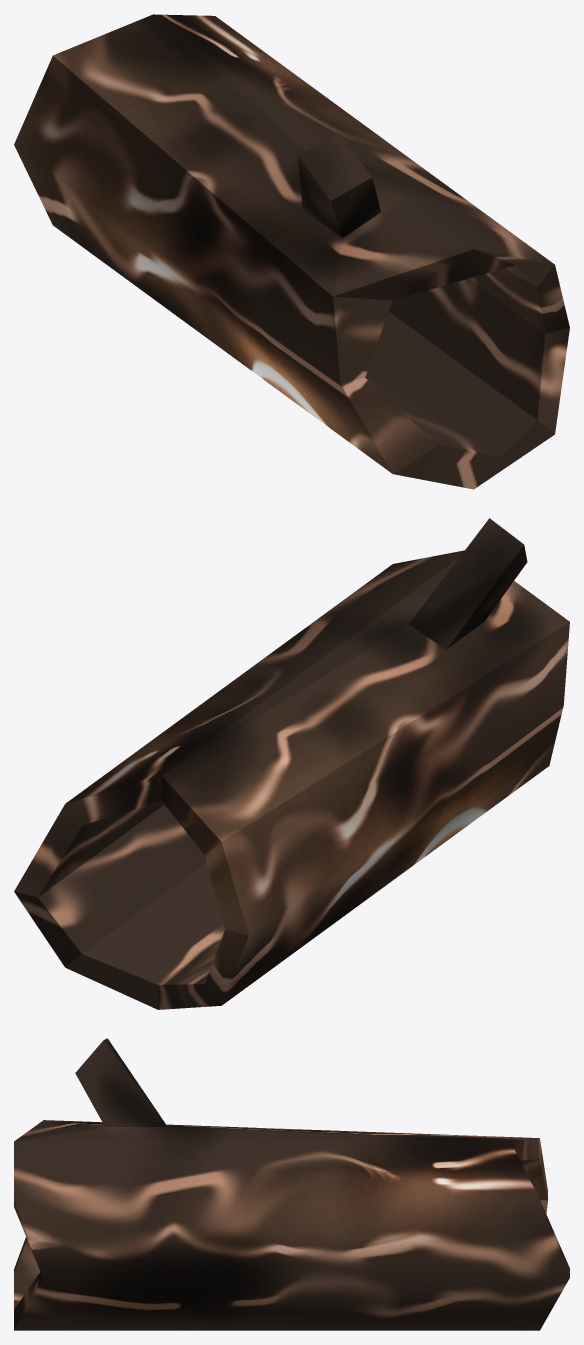
The model's file is Log.FBX.
3 views of the same model, one above another, from view 1: azimuth 30°, elevation 25°; view 2: azimuth 150°, elevation 25°; view 3: azimuth 270°, elevation 25° (orthographic). The views are drawn at different scales.
Parts seen in each view (by area): view 1: Cylinder001; view 2: Cylinder001; view 3: Cylinder001.
Boxes of the visible parts, x1,y1,x2,y2 form: Cylinder001: (14,14,569,489); Cylinder001: (14,518,569,1009); Cylinder001: (14,1038,569,1330).
Size of the model in its own units: 75.09 by 101 by 198.
